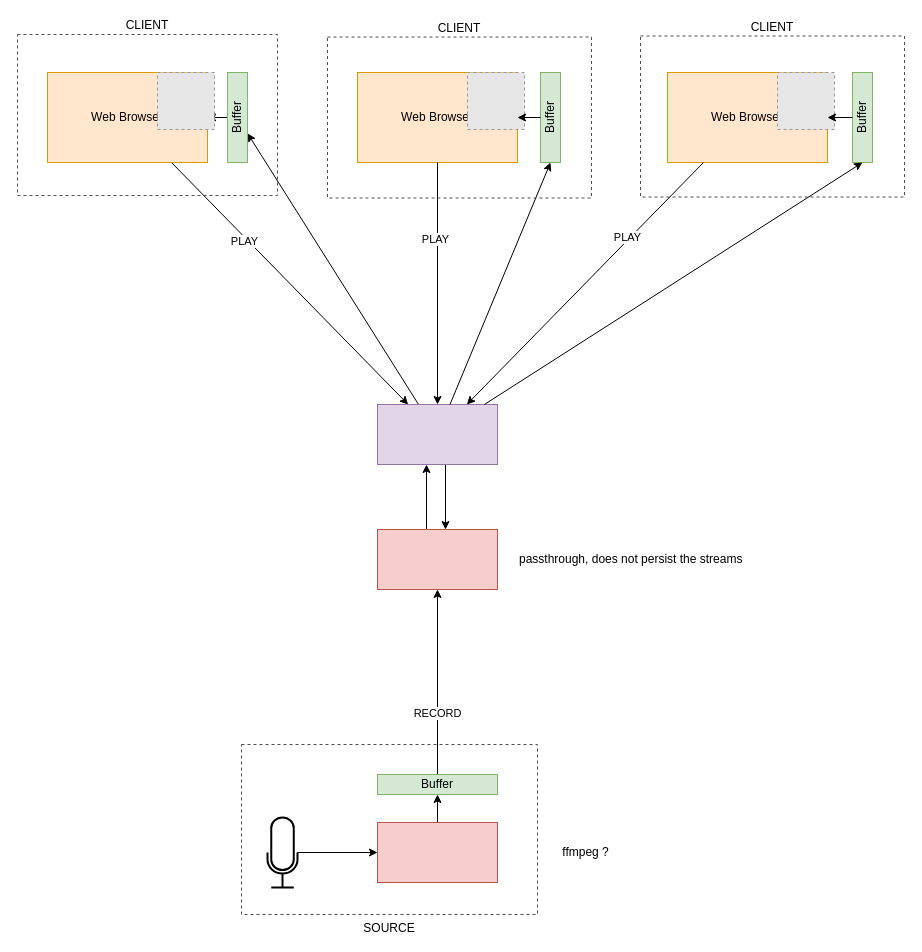
This 922x952 diagram has some shape labels left out. Grey dashed boxes stand in for pictures. The shapes that lost their labels are listed below. From the top down, each one's centre as x and y in pixels, then its label:
At (x=437, y=434): "Web Server".
At (x=437, y=559): "Streaming Server".
At (x=437, y=852): "Shell".
